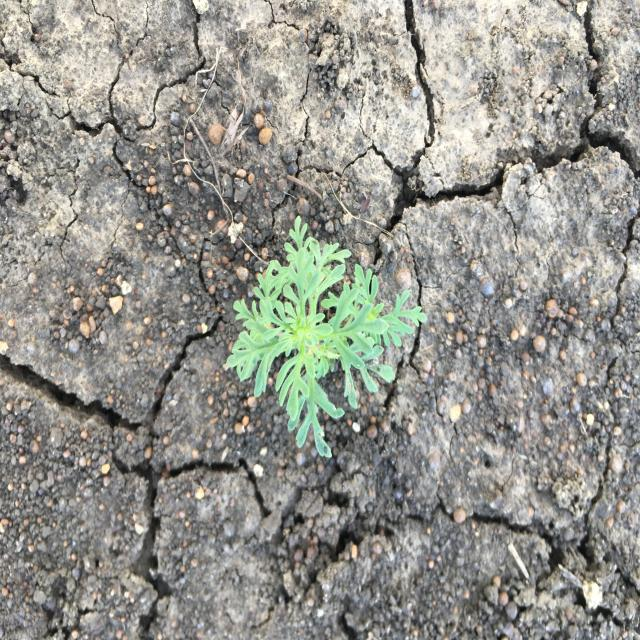Ragweed: (225, 214, 429, 460)
